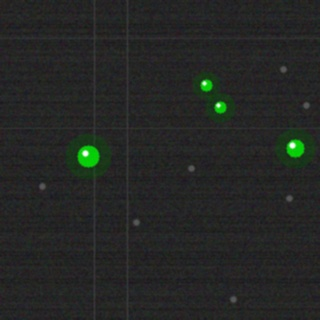green_normal: (75, 143, 101, 169), (284, 137, 306, 159), (212, 99, 228, 115), (198, 77, 214, 93)
